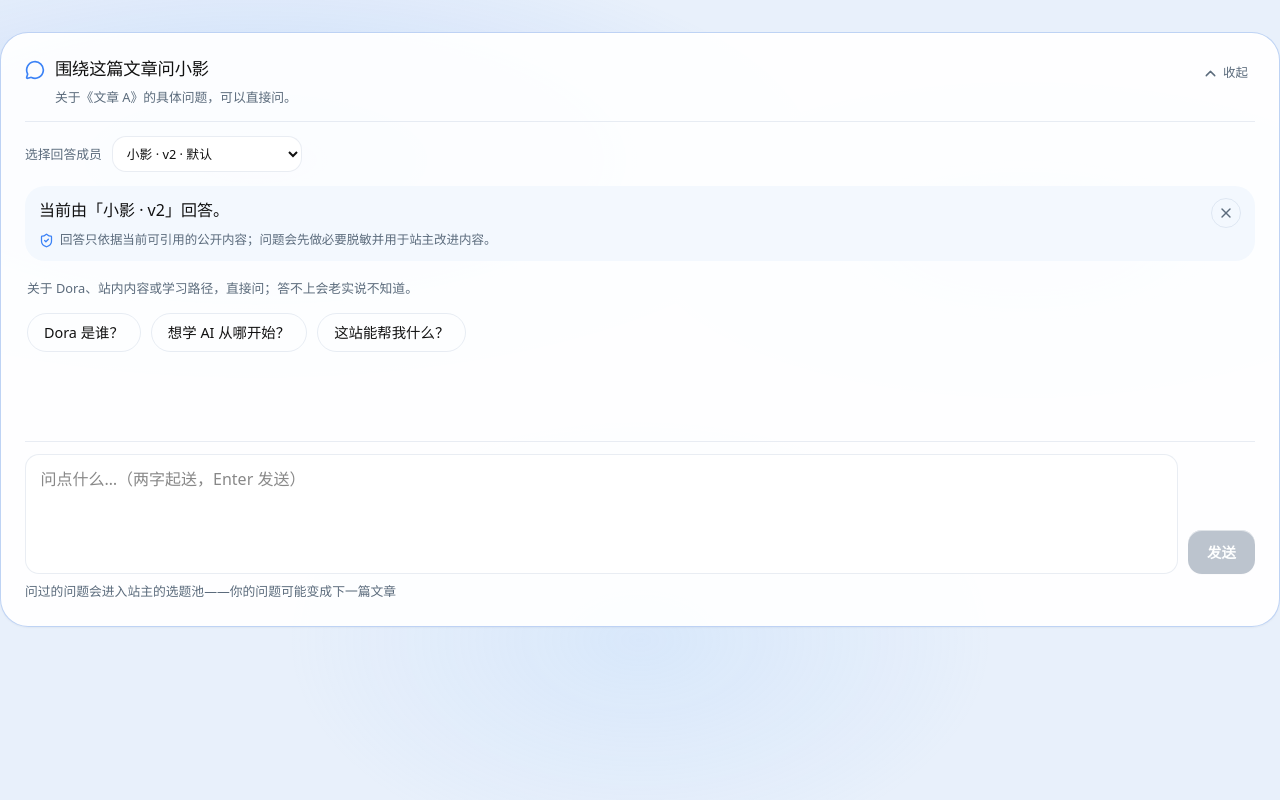
Test: ArticleAssistantPanel › 用户点击示例后才发送，并绑定当前文章位置与公开消息上下文
This screenshot has width=1280, height=800.
Expected: the text "当前由「小影 · v2」回答。" is shown, [39,199,229,221]
Click the button "Dora 是谁？" at (84, 332), box [27,313,141,352]
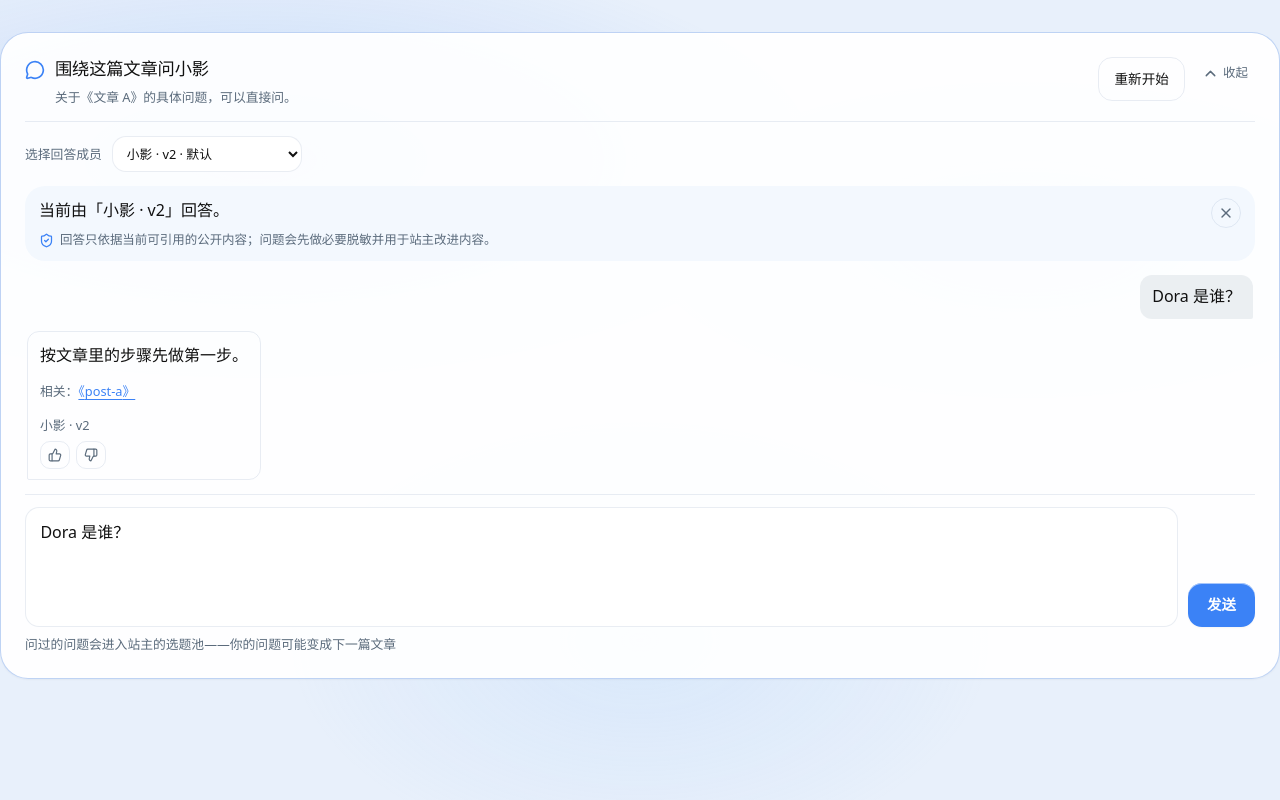
Expected: the text "按文章里的步骤先做第一步。" is shown, [40,342,248,369]
